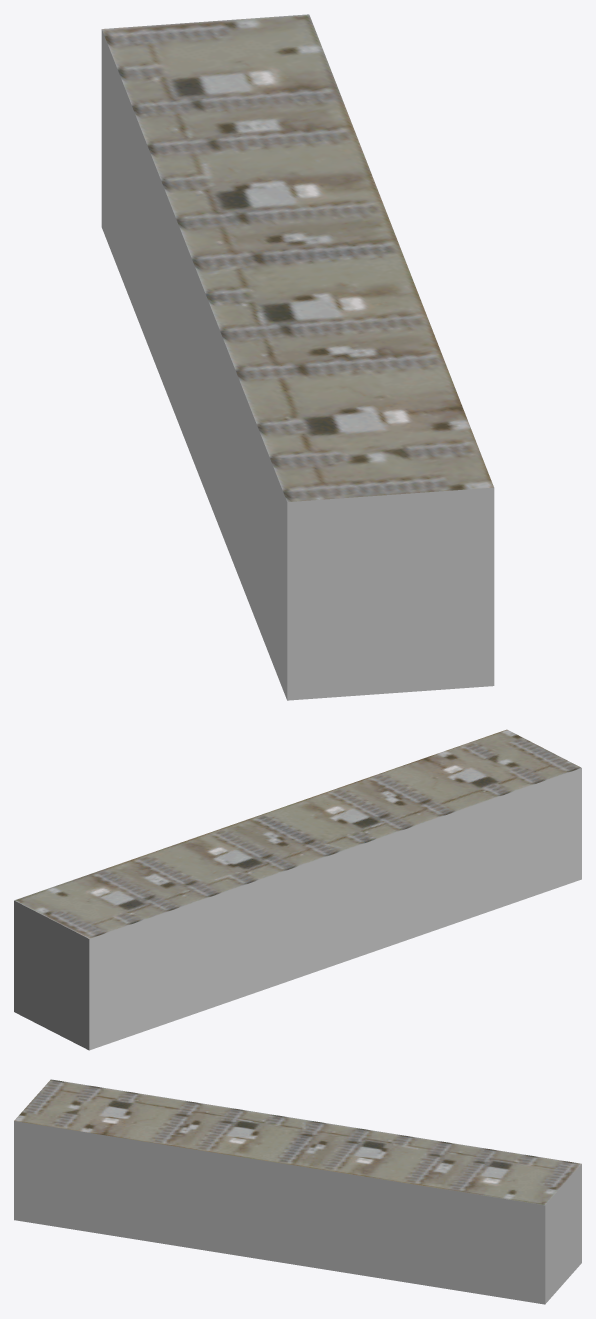
Rendered from DEBW_0010007Txfs.gltf.
3 renders of one model, top to bottom at view 1: azimuth 30°, elevation 25°; view 2: azimuth 150°, elevation 25°; view 3: azimuth 270°, elevation 25°, orthographic. The views are drawn at different scales.
Parts seen in each view (by area): view 1: Z_UP; view 2: Z_UP; view 3: Z_UP.
Boxes of the visible parts, box(x1,y1,x2,y2) form: Z_UP: box(101, 14, 494, 700); Z_UP: box(14, 729, 581, 1050); Z_UP: box(14, 1079, 581, 1304).
Bounding box in the file's own units: 36.1 × 13.26 × 68.78.
2 materials, 1 textured.
